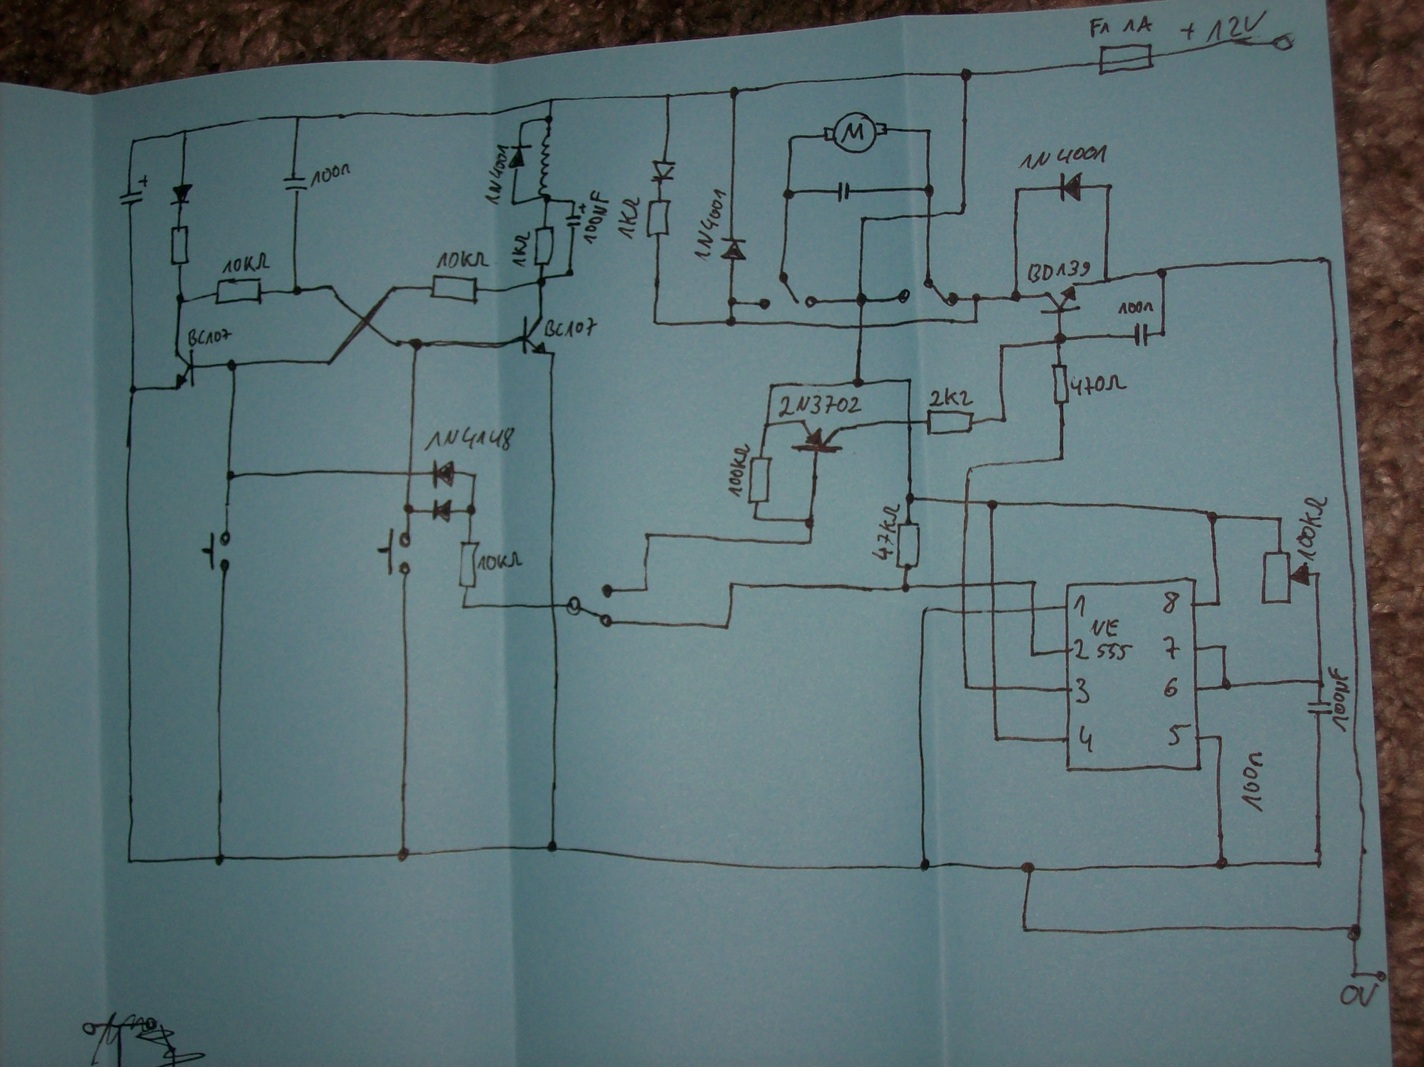capacitor.polarized: (118, 171, 149, 208), (565, 203, 588, 228)
capacitor.unpolarized: (1132, 321, 1151, 352), (1305, 698, 1333, 718), (282, 174, 309, 193), (835, 179, 851, 206)
crossover: (357, 310, 376, 330), (902, 416, 916, 430), (988, 681, 1002, 696), (1027, 602, 1040, 615), (854, 321, 868, 332), (988, 605, 1000, 618), (961, 497, 974, 509), (547, 600, 559, 612), (922, 211, 936, 222), (958, 607, 970, 619), (957, 579, 970, 590), (987, 578, 999, 588), (403, 468, 415, 479)
diode: (1058, 170, 1085, 203), (431, 458, 457, 490), (720, 236, 750, 262), (508, 142, 532, 171), (168, 182, 194, 208), (430, 497, 455, 525), (650, 159, 677, 184)
fuse: (1097, 41, 1154, 77)
inductor: (538, 128, 552, 194)
integrated_cricuit.ne555: (1062, 575, 1207, 774)
junction: (1344, 922, 1363, 941), (1018, 860, 1037, 878), (1203, 505, 1220, 526), (407, 336, 425, 352), (395, 846, 411, 864), (854, 291, 869, 308), (1154, 265, 1171, 280), (174, 289, 188, 307), (1053, 330, 1068, 347), (1213, 855, 1229, 871), (225, 358, 240, 374), (1220, 675, 1234, 693), (922, 182, 936, 200), (985, 497, 1000, 511), (1009, 288, 1024, 304), (290, 282, 305, 298), (545, 839, 559, 855), (919, 857, 932, 874), (464, 502, 477, 519), (724, 314, 738, 328), (781, 187, 795, 202), (1054, 451, 1069, 465), (990, 732, 1005, 746), (959, 67, 972, 83), (536, 273, 549, 289), (851, 375, 865, 390), (725, 295, 739, 308), (649, 315, 662, 330), (964, 462, 977, 476), (214, 853, 227, 867), (224, 468, 238, 483), (401, 501, 415, 516), (1320, 254, 1335, 267), (538, 194, 555, 205), (1313, 675, 1327, 688), (857, 212, 871, 225), (918, 604, 931, 618), (728, 85, 741, 100), (1026, 648, 1039, 662), (1312, 857, 1327, 870), (803, 513, 815, 529), (564, 266, 576, 279), (324, 355, 336, 369), (125, 383, 139, 396), (1156, 326, 1170, 338), (905, 491, 916, 505), (291, 112, 306, 123), (389, 338, 404, 349), (900, 582, 912, 594), (956, 206, 968, 219), (1104, 180, 1116, 193), (1100, 273, 1113, 286), (996, 340, 1008, 352), (998, 412, 1011, 425), (960, 681, 972, 694), (1027, 577, 1040, 590), (1273, 513, 1286, 525), (1018, 925, 1032, 936), (1212, 597, 1223, 610), (1218, 641, 1230, 652), (722, 621, 733, 633), (761, 419, 773, 430), (542, 113, 555, 124), (325, 281, 337, 293), (1348, 968, 1360, 980), (459, 600, 469, 613), (750, 513, 761, 525), (388, 282, 399, 294), (124, 856, 136, 867), (904, 375, 916, 386), (922, 126, 934, 136), (971, 291, 981, 304), (508, 198, 520, 208), (545, 95, 557, 105), (1214, 731, 1225, 743), (641, 583, 651, 594), (642, 530, 653, 540), (766, 380, 778, 390), (1012, 185, 1023, 195), (516, 118, 528, 128), (128, 136, 139, 146), (663, 91, 674, 101), (727, 579, 737, 590), (568, 197, 578, 207), (469, 470, 480, 480), (806, 537, 815, 548), (787, 133, 795, 143), (971, 315, 980, 325), (180, 127, 190, 136)
motor: (822, 110, 890, 155)
resistor: (428, 273, 480, 306), (214, 276, 266, 307), (894, 519, 923, 572), (746, 454, 774, 505), (925, 408, 975, 437), (456, 538, 480, 590), (645, 197, 672, 239), (1050, 361, 1072, 407), (532, 223, 555, 269), (169, 223, 190, 268)
resistor.adjustable: (1260, 550, 1322, 607)
switch: (758, 270, 818, 310), (565, 583, 615, 628), (376, 526, 415, 578), (897, 276, 959, 307), (201, 529, 233, 574)
terminal: (1271, 33, 1297, 54), (1372, 968, 1387, 983)
text: (1179, 9, 1269, 43), (424, 424, 516, 455), (694, 187, 728, 262), (1018, 143, 1109, 171), (1293, 494, 1329, 563), (778, 393, 864, 418), (1088, 618, 1134, 662), (1325, 666, 1352, 734), (871, 502, 901, 562), (1239, 750, 1267, 814), (483, 142, 510, 207), (1026, 258, 1092, 284), (583, 189, 611, 245), (543, 314, 599, 340), (1070, 372, 1129, 395), (434, 249, 491, 271), (727, 442, 750, 498), (1338, 981, 1380, 1009), (309, 161, 352, 189), (221, 251, 271, 275), (616, 195, 641, 241), (477, 550, 525, 573), (929, 386, 975, 408), (187, 326, 234, 347), (510, 229, 531, 270), (1165, 722, 1192, 748), (1121, 13, 1154, 34), (1117, 299, 1155, 316), (1160, 634, 1182, 662), (1088, 16, 1113, 39), (1074, 676, 1092, 706), (1161, 590, 1181, 616), (1077, 724, 1093, 755), (1072, 637, 1091, 662), (1162, 675, 1181, 699), (1072, 593, 1087, 619)
transistor: (790, 418, 847, 454), (520, 313, 558, 358), (1040, 281, 1082, 314), (173, 347, 197, 393)
